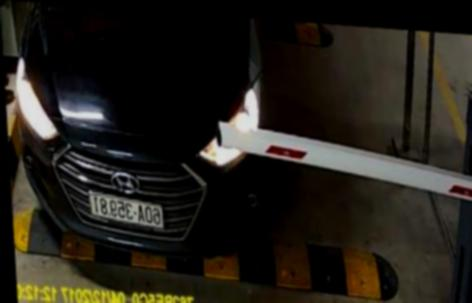License_Plate: (88, 191, 166, 236)
